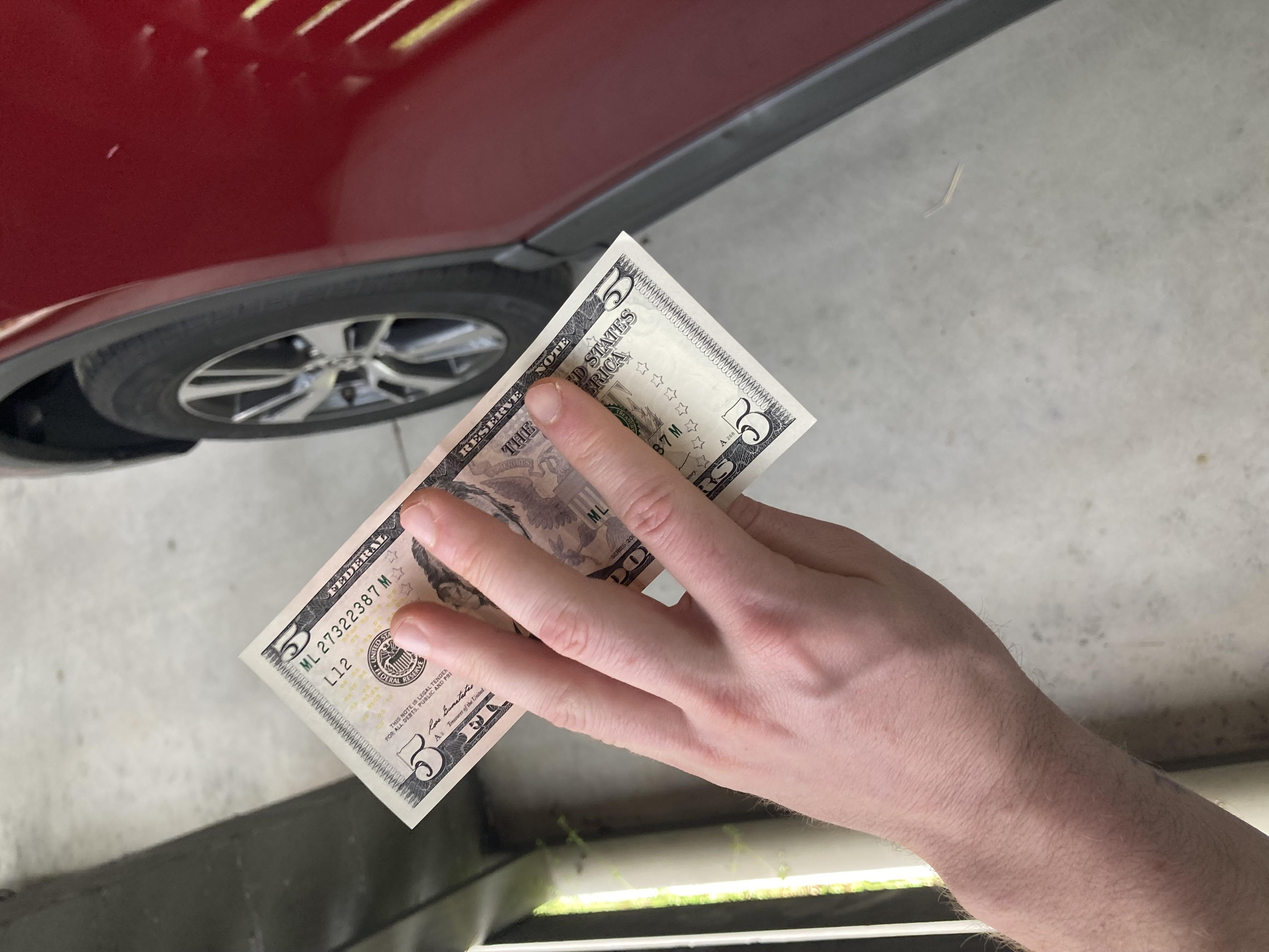five-front: (159, 179, 963, 613)
